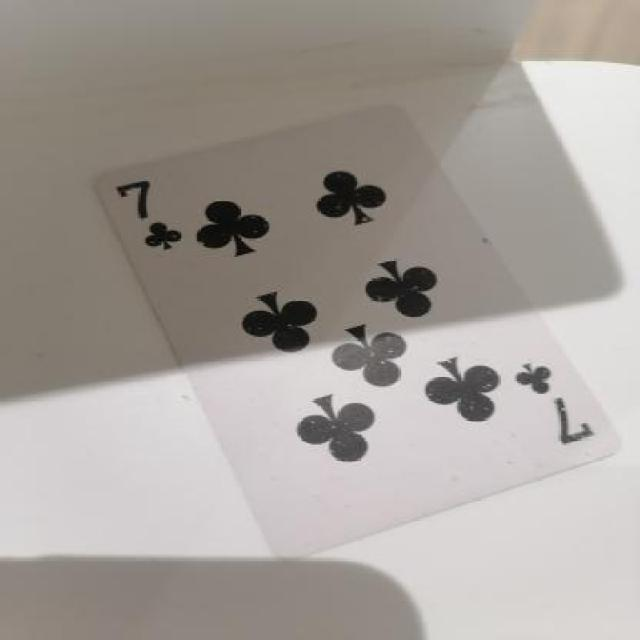7C: (502, 354, 610, 469), (112, 176, 192, 262)
